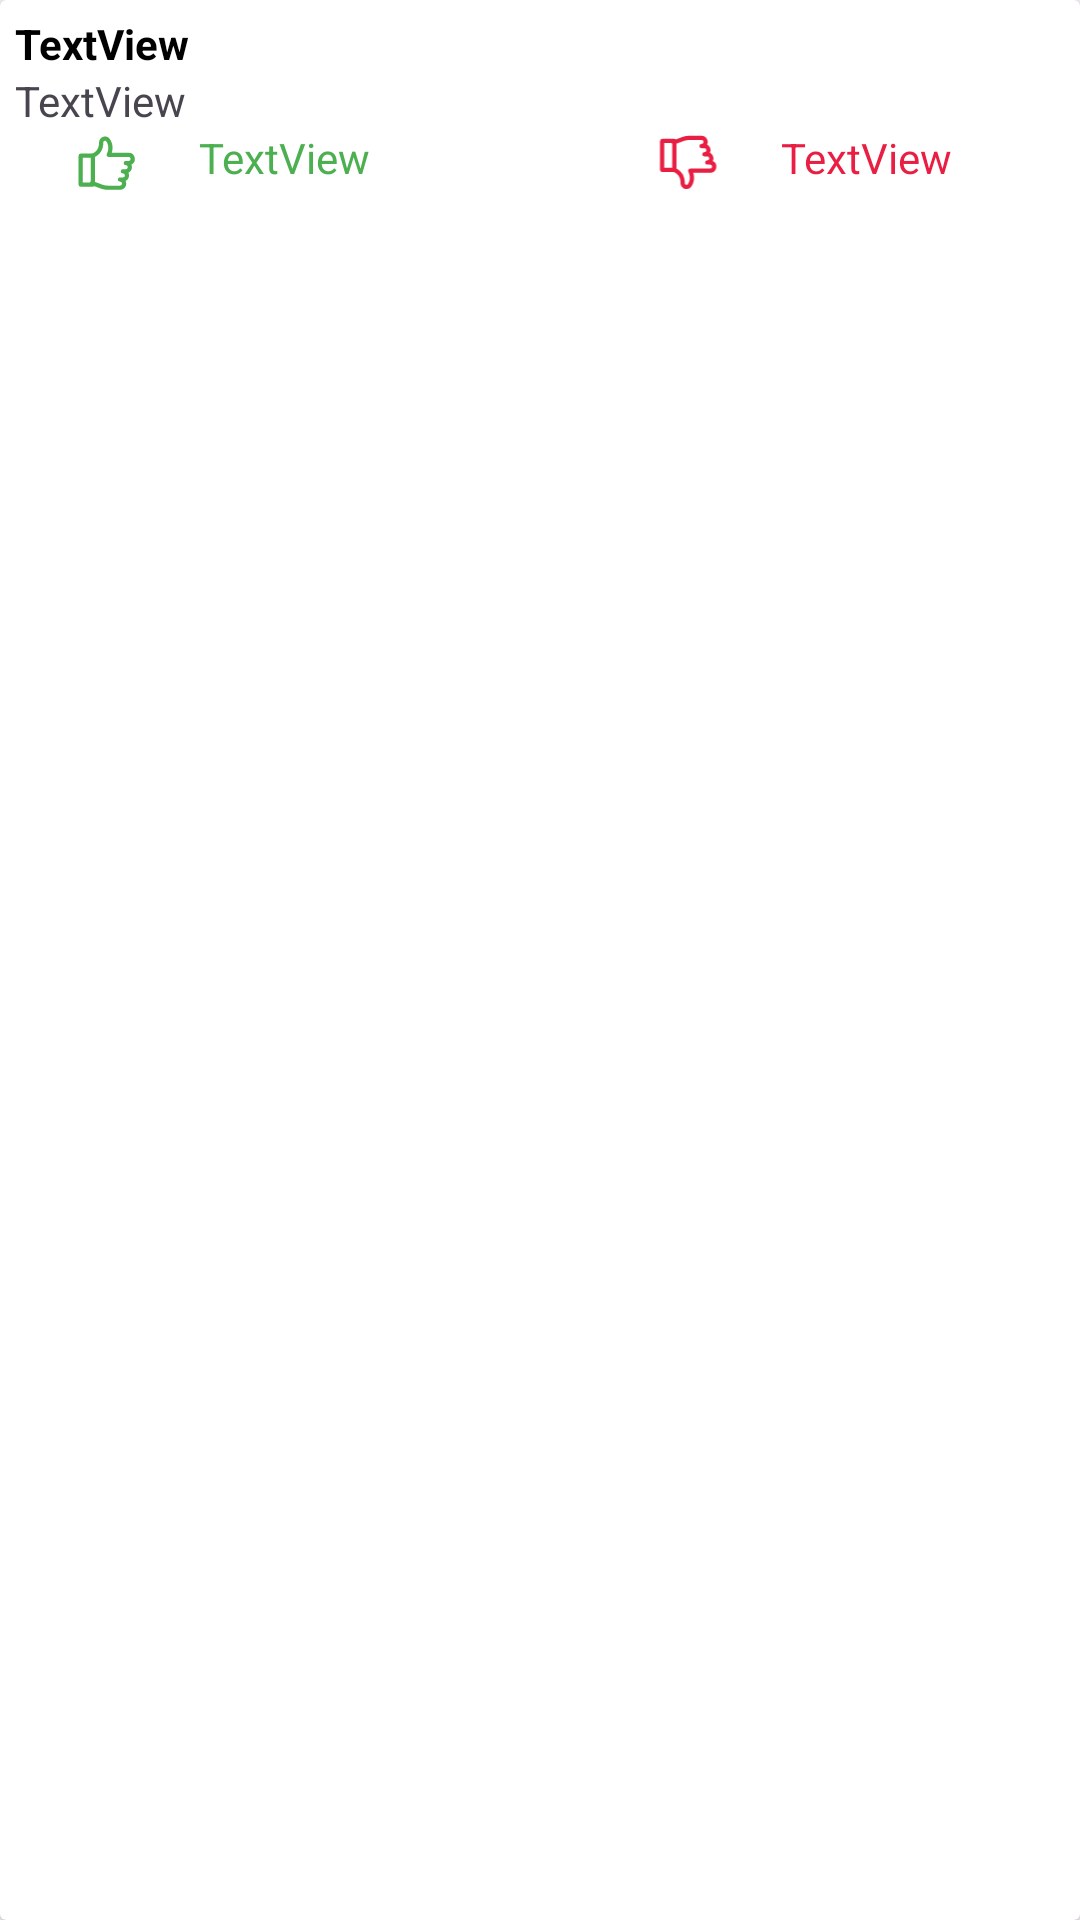

Where icons sit on this 1080 × 1920 app screen, as (x1, y1, x2, y2):
dislike: (659, 135, 717, 189)
like: (78, 136, 135, 190)
